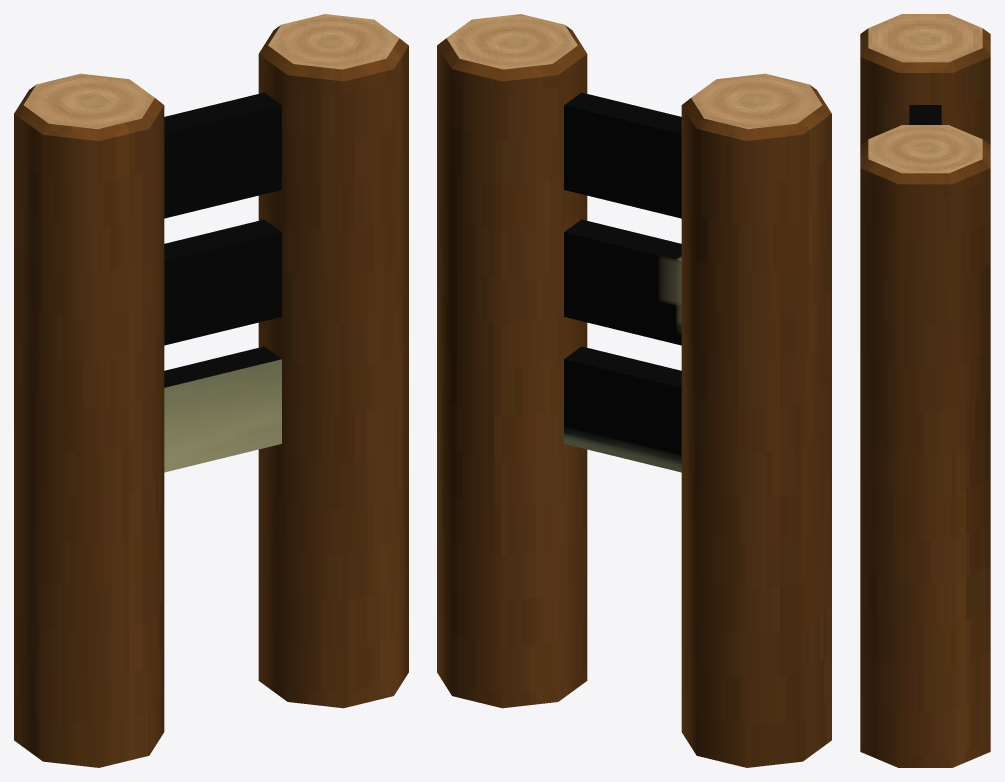
The model's file is Path_Fence_Gate_Frame_Plain_1x1.fbx.
The picture shows the model from 3 angles, left to right: view 1: azimuth 30°, elevation 25°; view 2: azimuth 150°, elevation 25°; view 3: azimuth 270°, elevation 25°; orthographic projection. The views are drawn at different scales.
Visible parts, largest first — view 1: Path_Fence_Gate_Frame_Plain_1x1; view 2: Path_Fence_Gate_Frame_Plain_1x1; view 3: Path_Fence_Gate_Frame_Plain_1x1.
Part boxes in pixels (bbox=[...]): Path_Fence_Gate_Frame_Plain_1x1: bbox=[14, 14, 408, 767]; Path_Fence_Gate_Frame_Plain_1x1: bbox=[437, 14, 831, 767]; Path_Fence_Gate_Frame_Plain_1x1: bbox=[860, 14, 990, 767].
Size of the model in its own units: 56.55 by 93.75 by 18.75.
